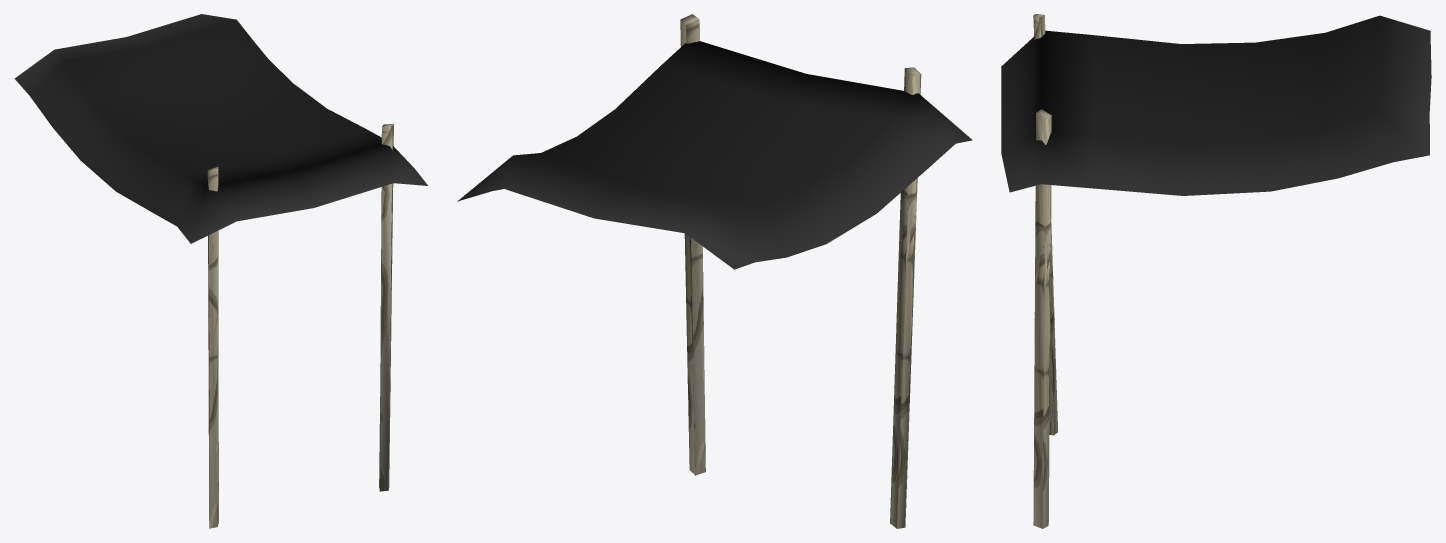
File: Awning.FBX
The picture shows the model from 3 angles, left to right: view 1: azimuth 30°, elevation 25°; view 2: azimuth 150°, elevation 25°; view 3: azimuth 270°, elevation 25°; orthographic projection. The views are drawn at different scales.
Parts seen in each view (by area): view 1: Awning; view 2: Awning; view 3: Awning.
Part boxes in pixels (bbox=[...]): Awning: bbox=[14, 14, 427, 528]; Awning: bbox=[457, 14, 972, 528]; Awning: bbox=[1001, 14, 1431, 528].
Size of the model in its own units: 1.82 by 2.67 by 2.49.
